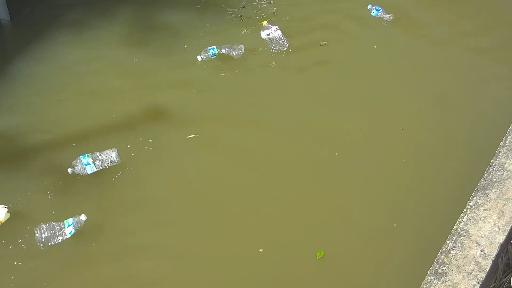leaf: (312, 246, 334, 259)
plastic: (30, 206, 109, 247), (237, 9, 301, 59), (75, 140, 136, 180), (188, 32, 252, 69), (340, 0, 397, 24), (0, 178, 19, 238)
